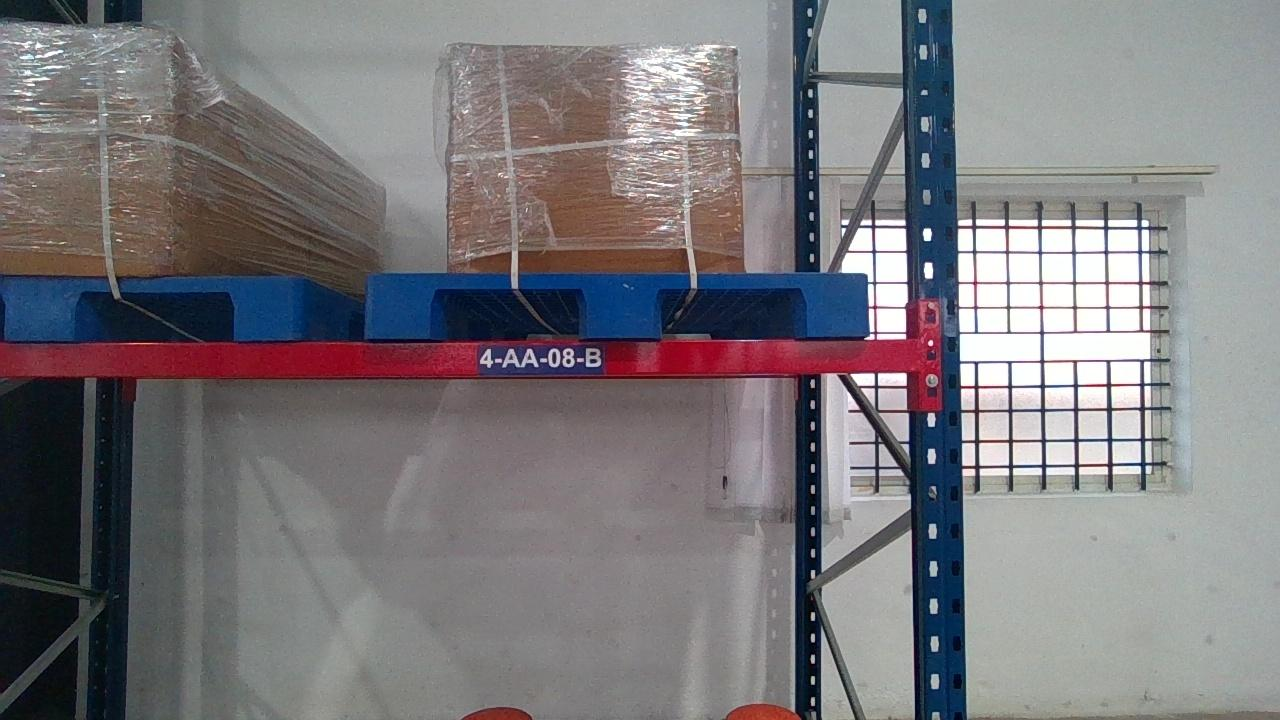h_rack: (1, 337, 919, 377)
small_pallet: (367, 270, 873, 334), (0, 274, 303, 337)
